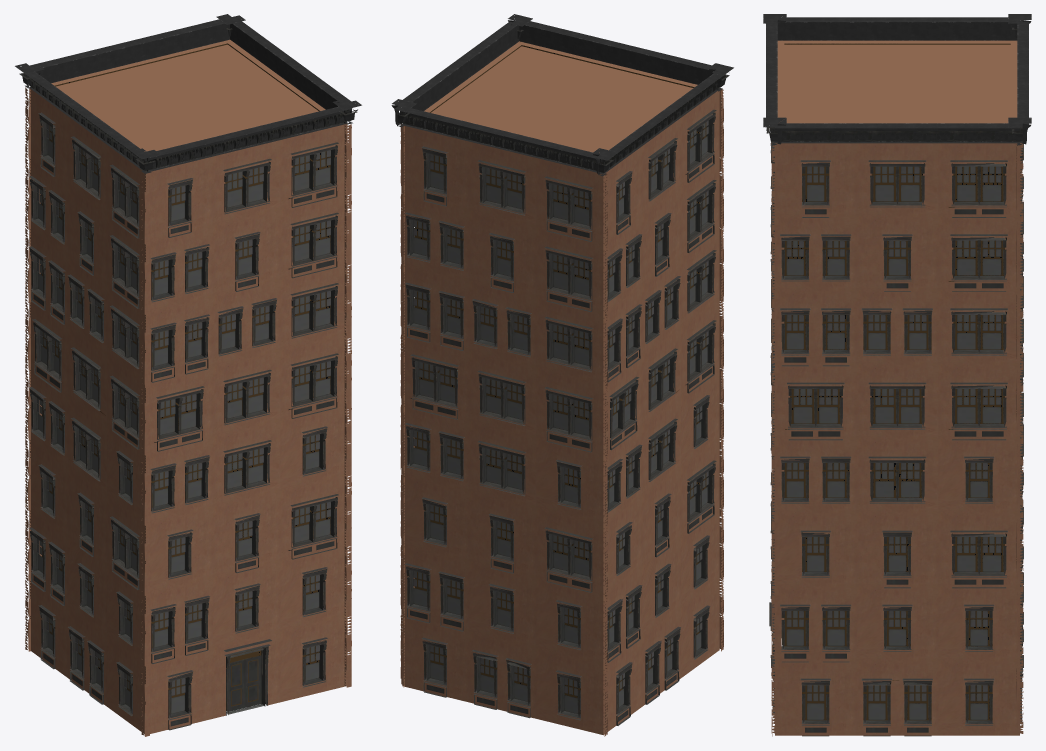
Rendered from apartment_b.glb.
The picture shows the model from 3 angles, left to right: view 1: azimuth 30°, elevation 25°; view 2: azimuth 150°, elevation 25°; view 3: azimuth 270°, elevation 25°; orthographic projection. The views are drawn at different scales.
Visible parts, largest first — view 1: building; view 2: building; view 3: building.
Boxes of the visible parts, <box> form: building: <box>15,14,361,736</box>; building: <box>391,14,733,736</box>; building: <box>763,14,1031,736</box>.
Bounding box in the file's own units: 9.85 × 24.84 × 9.85.
Materials: 5 (5 with a texture image).
